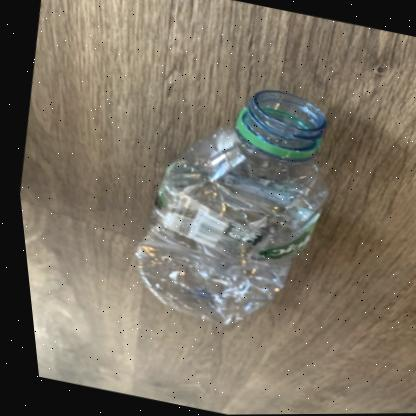Plastic: (128, 88, 323, 324)
